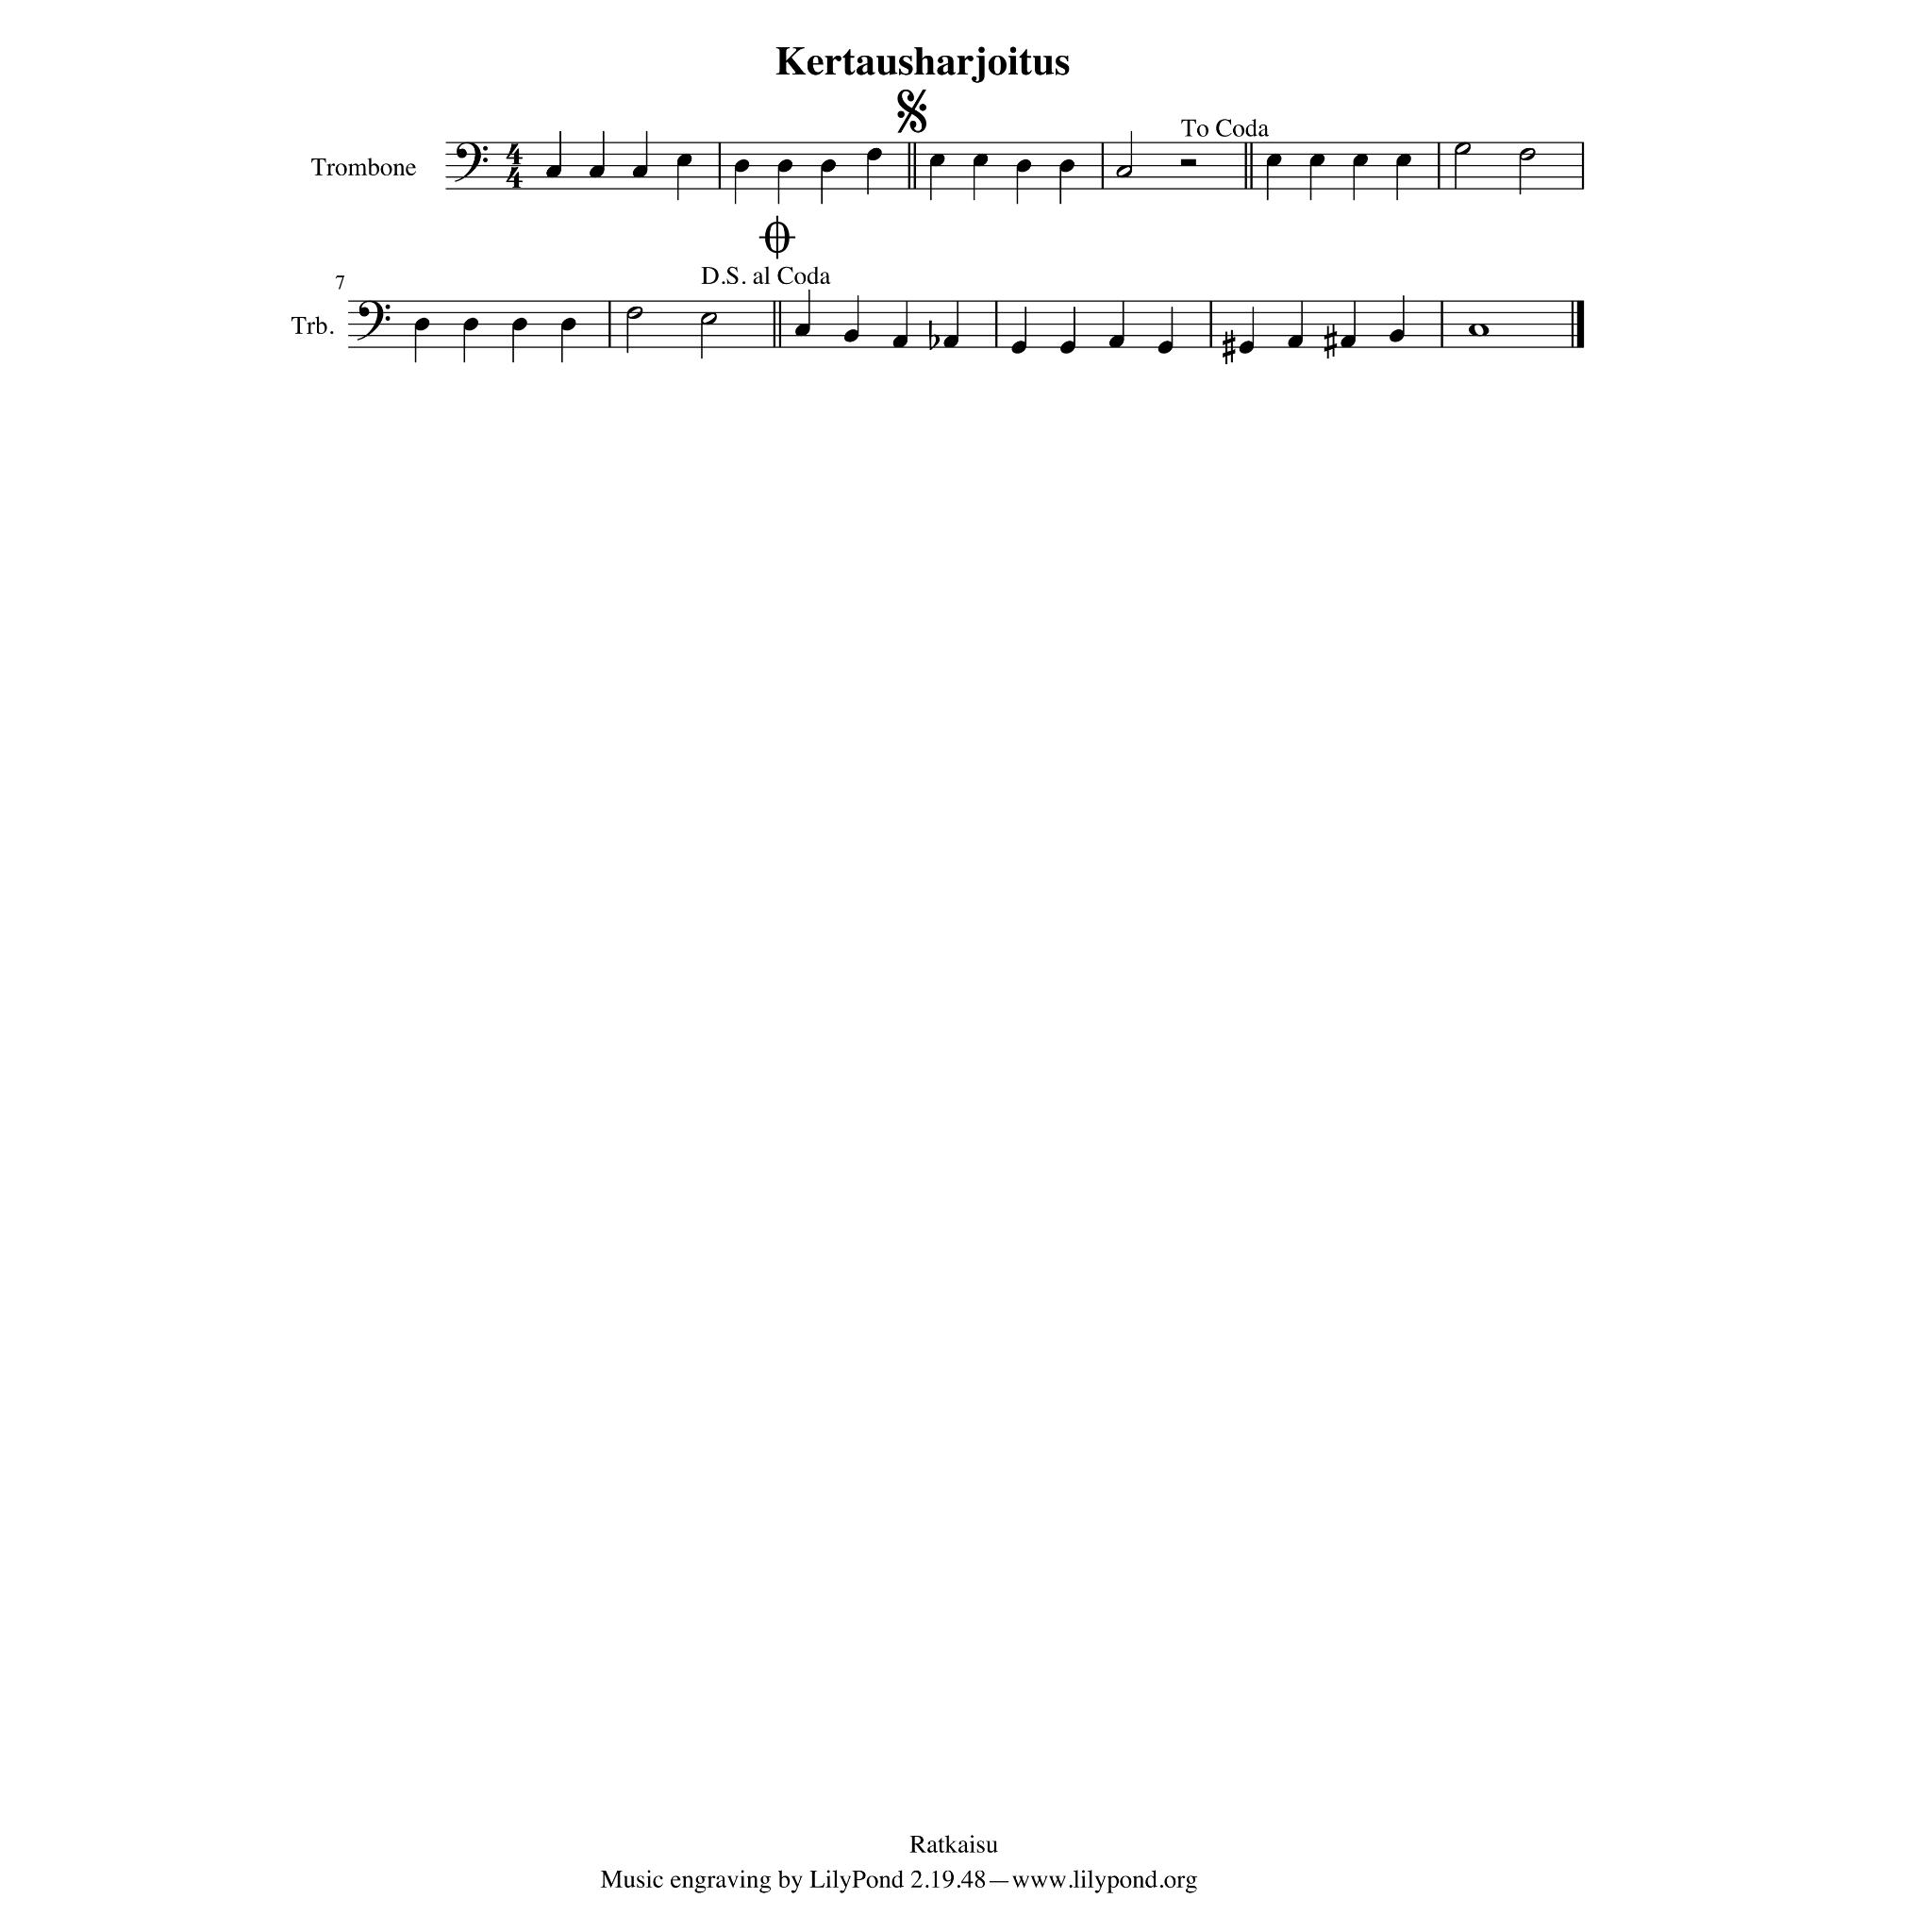fClef: (454, 142, 488, 183), (357, 300, 391, 341)
noteheadBlack: (545, 164, 562, 179), (794, 323, 811, 338), (632, 164, 647, 179), (589, 164, 604, 179), (1015, 159, 1032, 173), (1058, 159, 1075, 173), (675, 154, 692, 167), (866, 148, 883, 161), (928, 154, 945, 167), (972, 154, 989, 167), (1108, 335, 1124, 348), (1157, 341, 1174, 355), (1238, 341, 1255, 355), (1287, 335, 1304, 348), (1340, 335, 1357, 348), (413, 318, 430, 331), (462, 318, 479, 331), (843, 329, 860, 342), (1266, 154, 1281, 167), (1309, 154, 1324, 167), (1353, 154, 1368, 167), (1396, 154, 1411, 167), (734, 159, 749, 173), (821, 159, 836, 173), (777, 159, 792, 173), (1011, 341, 1026, 355), (1060, 341, 1075, 355), (1390, 329, 1405, 342), (511, 318, 526, 331), (560, 318, 575, 331), (892, 335, 908, 348), (943, 335, 958, 348)
noteheadHalf: (1115, 165, 1132, 178), (1519, 148, 1536, 161), (1454, 142, 1471, 156), (625, 307, 642, 320), (700, 312, 717, 325)
noteheadWhole: (1468, 323, 1489, 338)
restHalf: (1181, 159, 1196, 167)
